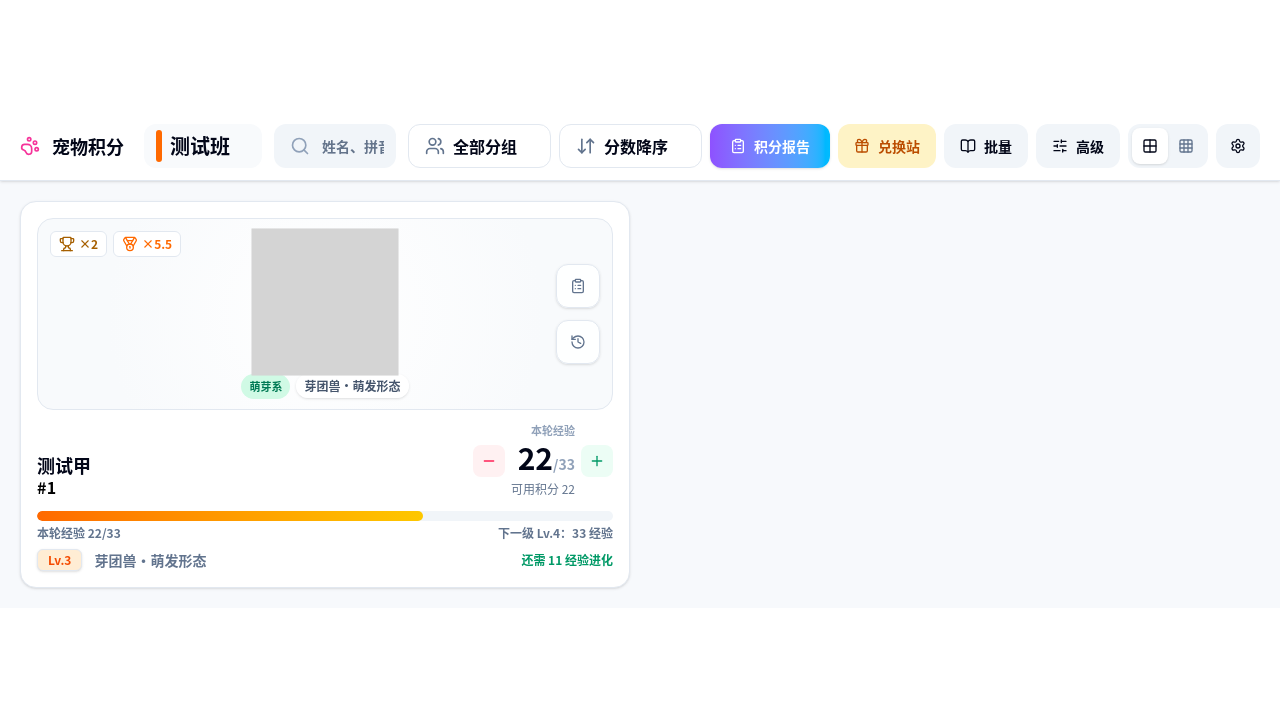
Test: PetPoints persisted workflows › uses a medal for teacher badge adjustments and shows derived trophies in history
The image size is (1280, 720).
Click the button named "养成记录" at (578, 342), box x1=556 y1=320 x2=600 y2=364
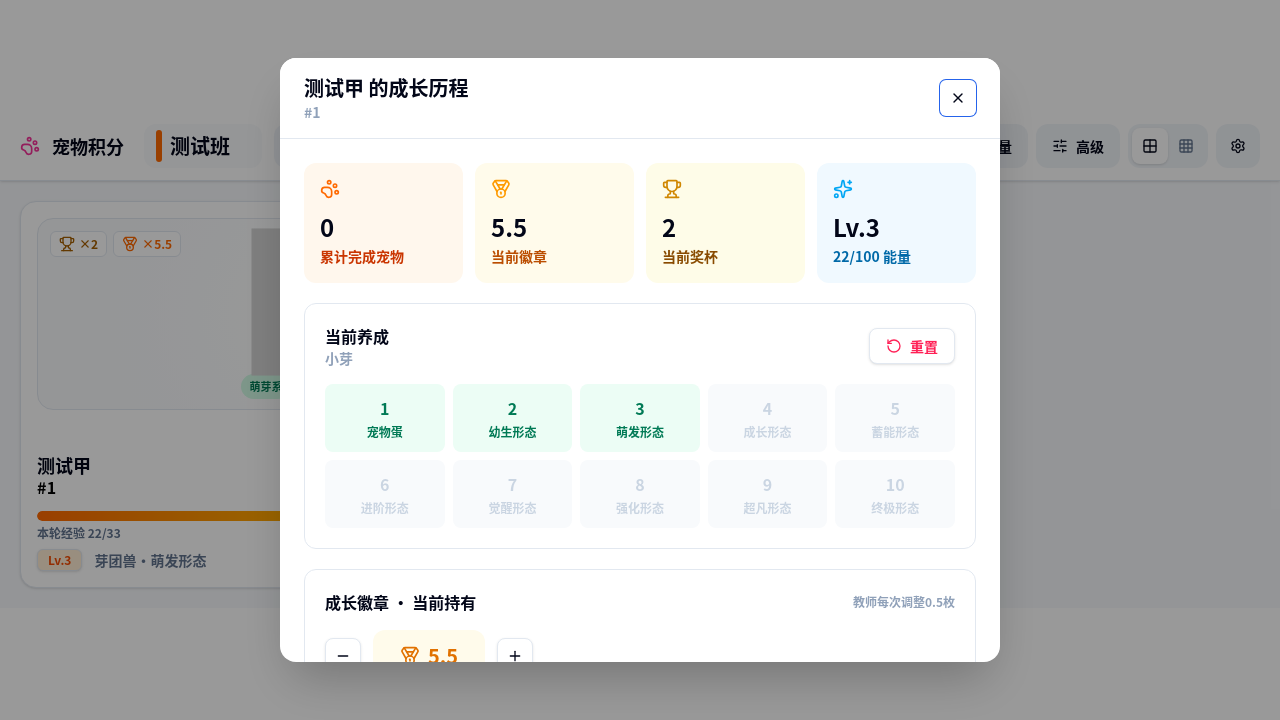
Now the 1st text "2" is shown, box x1=662 y1=209 x2=676 y2=244
Now the element showing "5.5" is shown, box x1=373 y1=630 x2=485 y2=662
Now the 3rd icon with class "lucide-medal" is shown, box x1=400 y1=646 x2=420 y2=662
